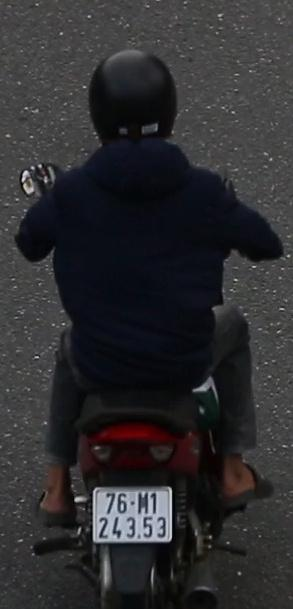LP: (90, 480, 178, 550)
helmet: (82, 48, 184, 158)
